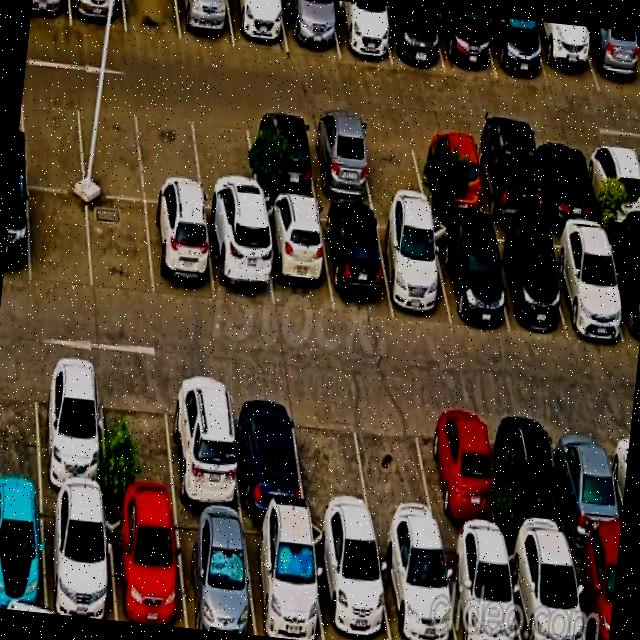empty: (353, 397, 439, 534), (292, 391, 372, 527), (100, 367, 176, 507), (191, 106, 259, 213), (77, 94, 144, 200), (87, 196, 153, 298), (138, 101, 202, 206), (21, 87, 84, 191), (28, 188, 92, 289), (358, 122, 427, 207), (0, 357, 40, 489), (123, 0, 180, 40)
occupied: (421, 401, 500, 541), (166, 375, 241, 514), (229, 382, 305, 518), (174, 509, 255, 635), (106, 502, 186, 628), (496, 407, 569, 545), (35, 359, 106, 498), (243, 517, 323, 640), (551, 413, 621, 549), (311, 523, 390, 640), (42, 494, 115, 620), (547, 225, 626, 340), (375, 533, 456, 640), (431, 220, 509, 331), (375, 212, 451, 325), (486, 225, 565, 331), (441, 536, 520, 640), (319, 206, 392, 315), (505, 541, 585, 640), (262, 201, 332, 312), (145, 203, 214, 302), (204, 211, 273, 308), (471, 133, 543, 223), (415, 128, 485, 215), (247, 113, 316, 201), (305, 117, 373, 204), (532, 137, 598, 223), (0, 491, 45, 613), (532, 20, 599, 92), (584, 141, 640, 226), (569, 546, 618, 640), (485, 16, 548, 85), (381, 5, 444, 72), (604, 230, 640, 347), (580, 26, 640, 96), (435, 10, 496, 78), (329, 0, 391, 65), (281, 0, 339, 56), (227, 0, 287, 52), (2, 182, 29, 284), (176, 0, 233, 47), (69, 0, 125, 31), (30, 0, 70, 25)
